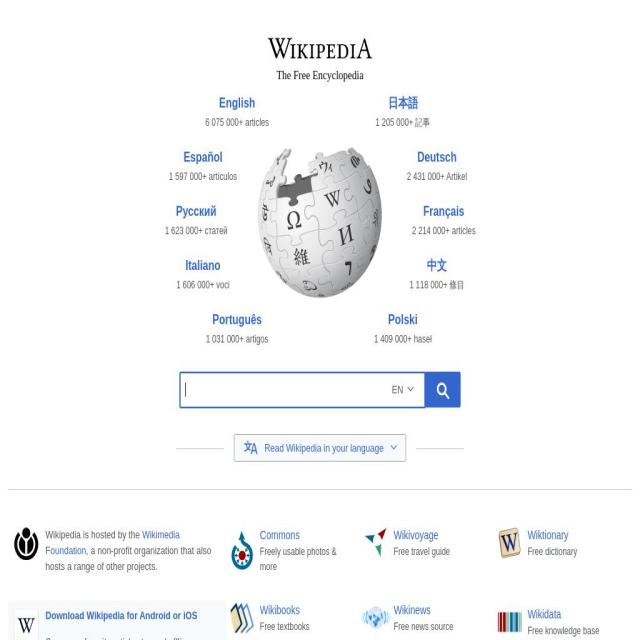button: (226, 526, 361, 574), (360, 526, 494, 568), (494, 526, 628, 568), (226, 601, 361, 640), (360, 601, 494, 640), (494, 601, 628, 640), (234, 433, 406, 462), (188, 92, 286, 131), (354, 92, 452, 131), (188, 309, 286, 348), (354, 309, 452, 348), (154, 147, 252, 185), (388, 147, 486, 185), (147, 201, 245, 239), (395, 201, 493, 239), (154, 255, 252, 293), (388, 255, 486, 293), (426, 372, 461, 408)
field: (179, 372, 426, 408)
heading: (258, 147, 382, 299), (265, 34, 375, 62), (265, 61, 375, 89)
image: (494, 601, 526, 640), (227, 530, 257, 570), (12, 606, 39, 640), (498, 527, 522, 558), (230, 602, 254, 633), (364, 528, 388, 558), (360, 607, 390, 629), (242, 440, 258, 456), (390, 444, 398, 452), (406, 386, 414, 393)
label: (392, 380, 404, 401)
link: (45, 528, 179, 556), (188, 92, 286, 114), (354, 92, 452, 114), (154, 146, 252, 168), (388, 146, 486, 168), (147, 200, 245, 222), (395, 200, 493, 222), (45, 608, 197, 622), (154, 255, 252, 276), (388, 255, 486, 276), (188, 309, 286, 330), (354, 309, 452, 330), (412, 224, 451, 237), (176, 278, 215, 291), (409, 278, 448, 291), (165, 224, 202, 237), (168, 170, 208, 182), (205, 116, 244, 128), (375, 116, 414, 128), (406, 170, 444, 182), (206, 333, 244, 345), (374, 333, 412, 345)
text: (45, 544, 211, 572), (260, 544, 348, 574), (261, 441, 390, 454), (260, 526, 348, 544), (45, 527, 143, 541), (528, 605, 600, 623), (45, 633, 214, 640), (528, 622, 600, 638), (394, 601, 454, 619), (394, 526, 451, 544), (12, 526, 40, 562), (394, 618, 454, 634), (259, 601, 310, 619), (394, 543, 451, 559), (528, 526, 578, 544), (259, 618, 310, 634), (528, 543, 578, 559), (208, 170, 238, 182), (451, 224, 476, 237), (205, 224, 228, 237), (245, 116, 269, 128), (436, 382, 451, 401), (246, 333, 268, 345), (447, 170, 468, 182), (414, 333, 432, 345), (449, 278, 465, 291), (216, 278, 231, 291), (415, 116, 431, 128)
